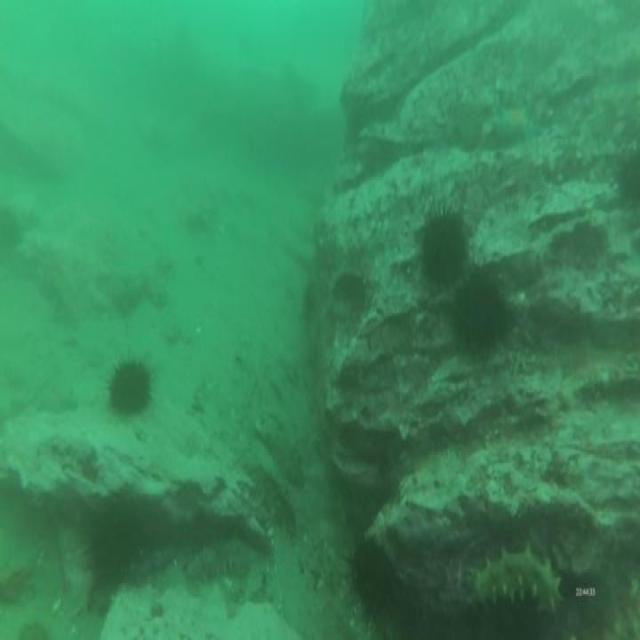echinus: (82, 506, 144, 599), (451, 267, 513, 357), (419, 200, 471, 296), (349, 533, 396, 613), (109, 349, 158, 424)
holothurian: (466, 542, 567, 618), (182, 530, 260, 586), (246, 457, 295, 534), (262, 425, 304, 488)
